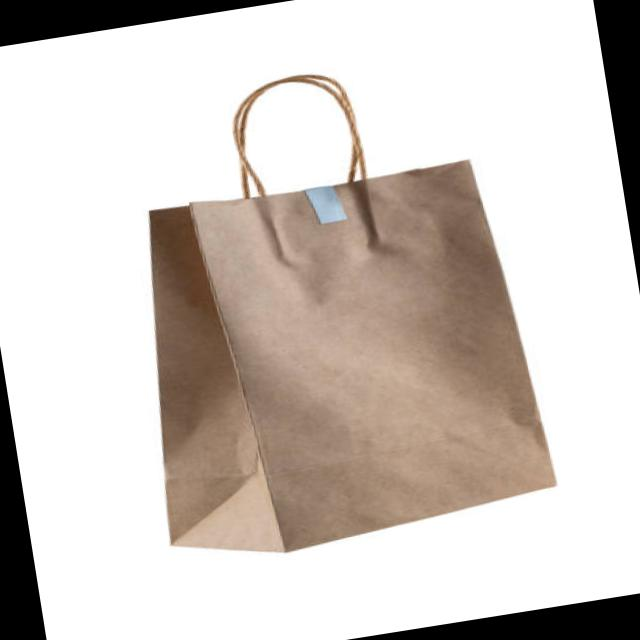electronic: (99, 44, 562, 570)
